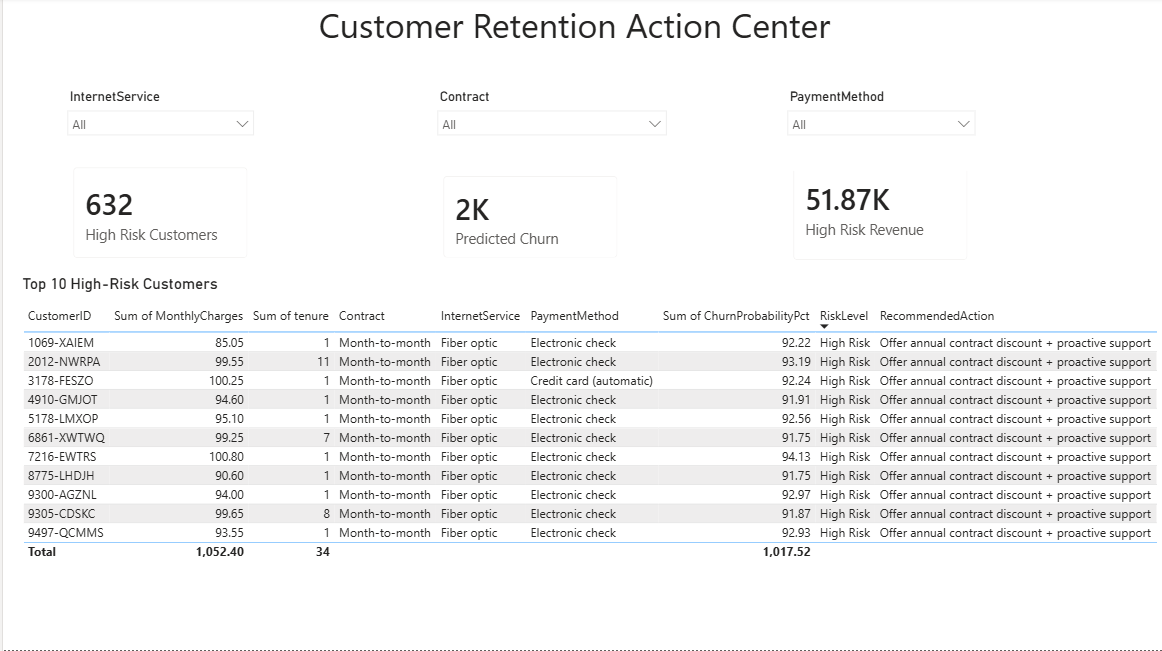

This screenshot's page, from the dashboard's own definition file:
{"tool":"powerbi","page":{"name":"Customer Retention Action Center","canvas":[1280,720],"ordinal":2},"visuals":[{"type":"textbox","box":[343.1,0,591.4,63.1],"z":0},{"type":"cardVisual","fields":{"Data":["churn_dashboard_data.High Risk Customers"]},"box":[60.4,171.5,226.4,134.5],"z":1},{"type":"cardVisual","fields":{"Data":["churn_dashboard_data.High Risk Revenue"]},"box":[854.9,156.4,226,150],"z":2},{"type":"cardVisual","fields":{"Data":["churn_dashboard_data.Predicted Churn"]},"box":[467.9,181.1,226.4,124.9],"z":3},{"type":"slicer","fields":{"Values":["churn_dashboard_data.Contract"]},"box":[468.6,96.5,272.9,79.9],"z":4},{"type":"slicer","fields":{"Values":["churn_dashboard_data.InternetService"]},"box":[60.6,96.5,226,79.9],"z":5},{"type":"slicer","fields":{"Values":["churn_dashboard_data.PaymentMethod"]},"box":[854.4,96.5,227.4,95.1],"z":6},{"type":"tableEx","title":"Top 10 High-Risk Customers","fields":{"Values":["churn_dashboard_data.CustomerID","Sum(churn_dashboard_data.MonthlyCharges)","Sum(churn_dashboard_data.tenure)","churn_dashboard_data.Contract","churn_dashboard_data.InternetService","churn_dashboard_data.PaymentMethod","Sum(churn_dashboard_data.ChurnProbabilityPct)","churn_dashboard_data.RiskLevel","churn_dashboard_data.RecommendedAction"]},"box":[16.5,305.9,1263.7,347.3],"z":7}]}

Visuals, with their boxes in screenshot pixels (x1, y1, x2, y2), scaled from the page's 1280x720 canvas onto the 1162x651 screenshot:
textbox: [x1=311, y1=0, x2=848, y2=57]
cardVisual - churn_dashboard_data.High Risk Customers: [x1=55, y1=155, x2=260, y2=277]
cardVisual - churn_dashboard_data.High Risk Revenue: [x1=776, y1=141, x2=981, y2=277]
cardVisual - churn_dashboard_data.Predicted Churn: [x1=425, y1=164, x2=630, y2=277]
slicer - churn_dashboard_data.Contract: [x1=425, y1=87, x2=673, y2=159]
slicer - churn_dashboard_data.InternetService: [x1=55, y1=87, x2=260, y2=159]
slicer - churn_dashboard_data.PaymentMethod: [x1=776, y1=87, x2=982, y2=173]
"Top 10 High-Risk Customers" tableEx: [x1=15, y1=277, x2=1161, y2=591]
